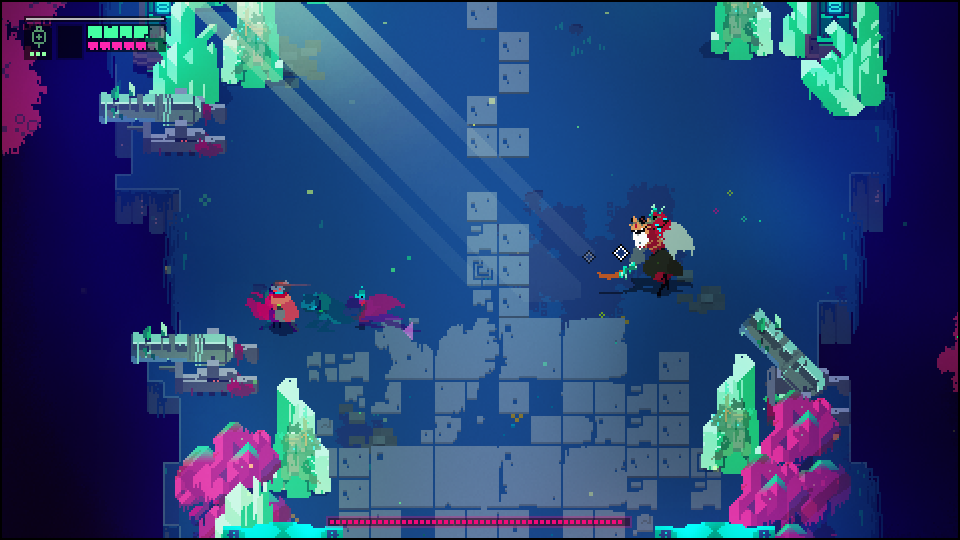hanged_man: (594, 204, 699, 286)
player: (258, 278, 301, 327)
